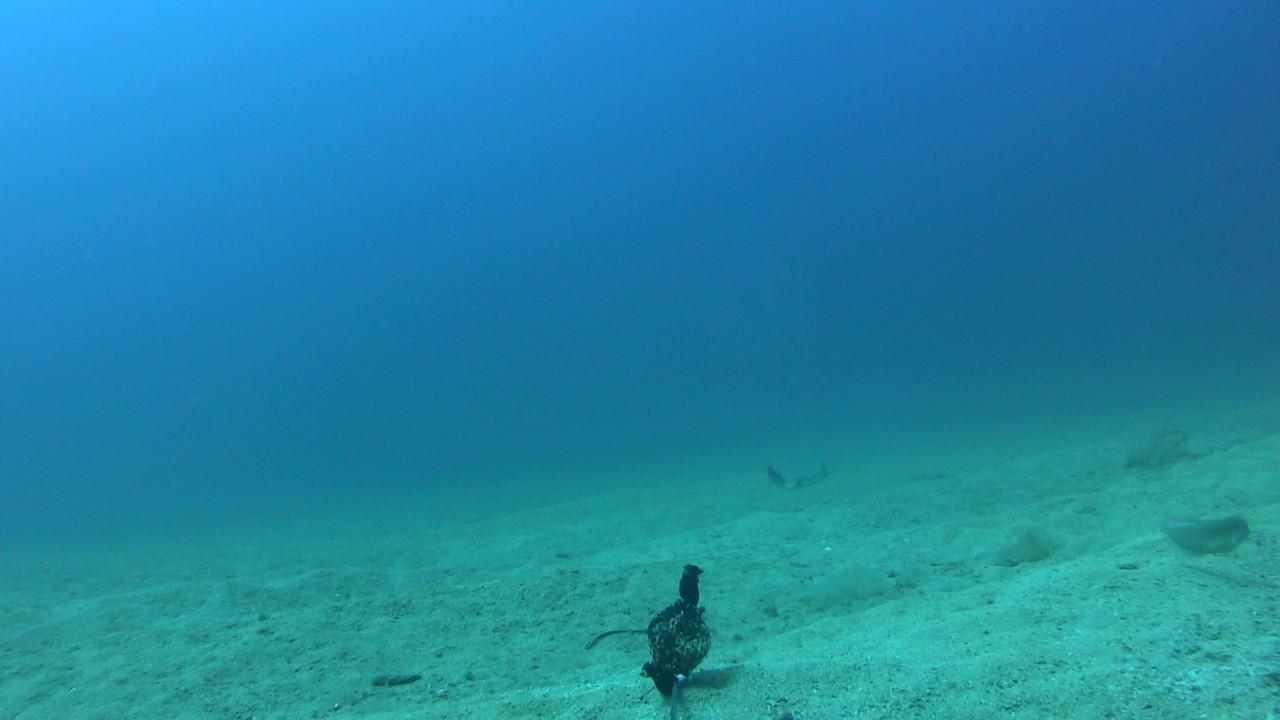myliobatis: (752, 455, 838, 497)
raor: (1151, 513, 1255, 559)
